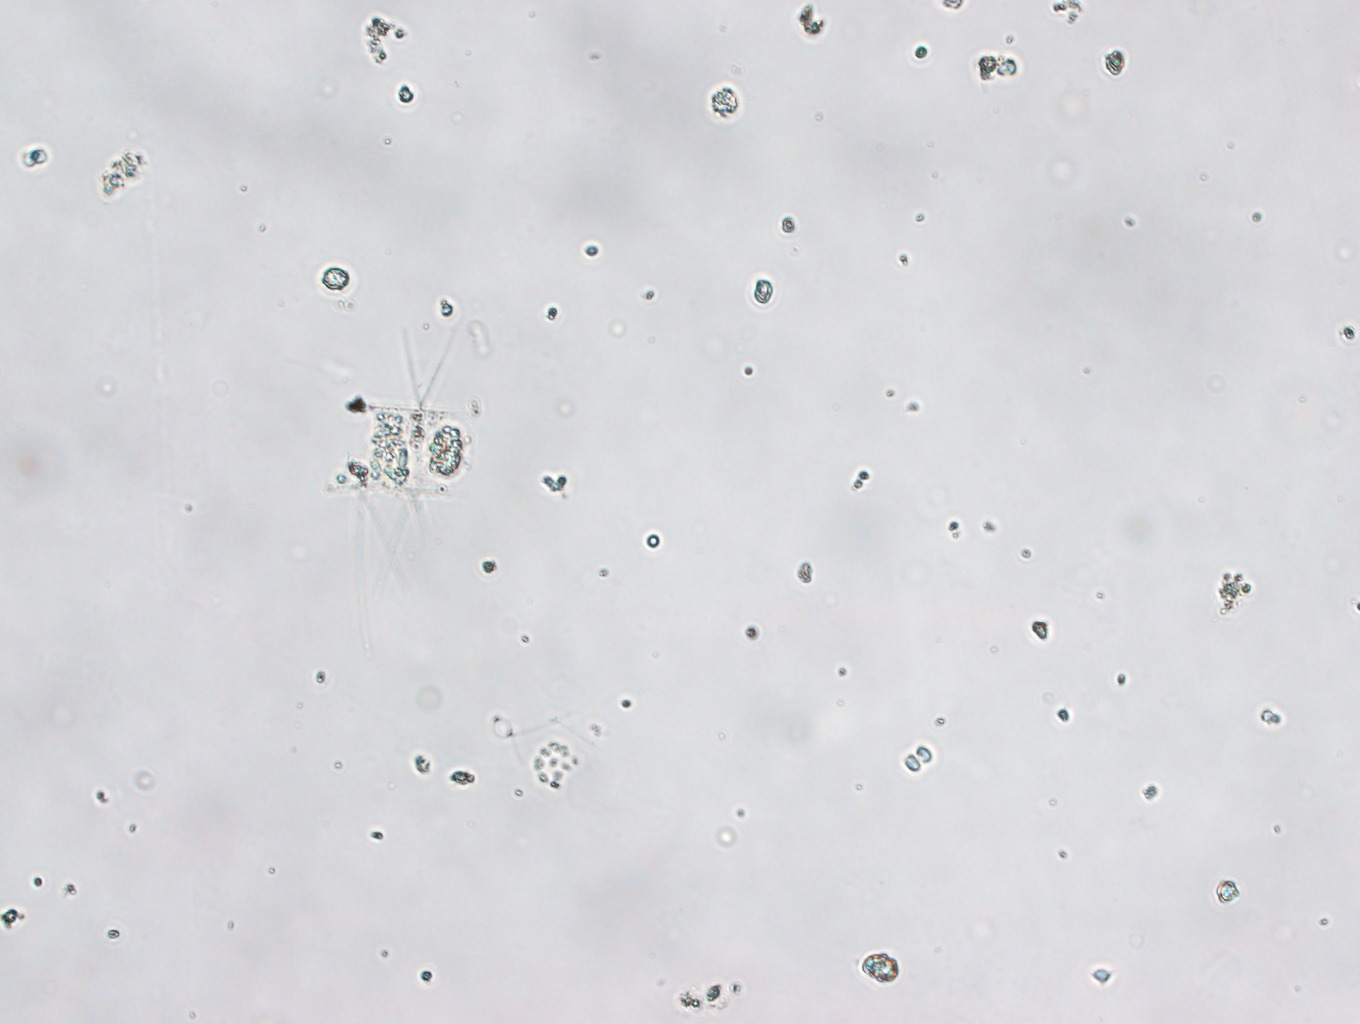chaetoceros: (323, 327, 497, 580)
